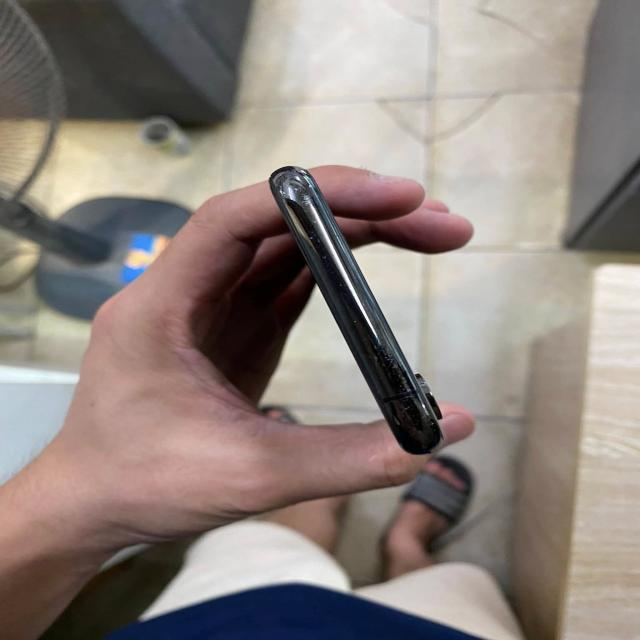gen_x_xs: (247, 161, 457, 459)
scratch: (364, 344, 429, 436), (274, 168, 332, 253)
